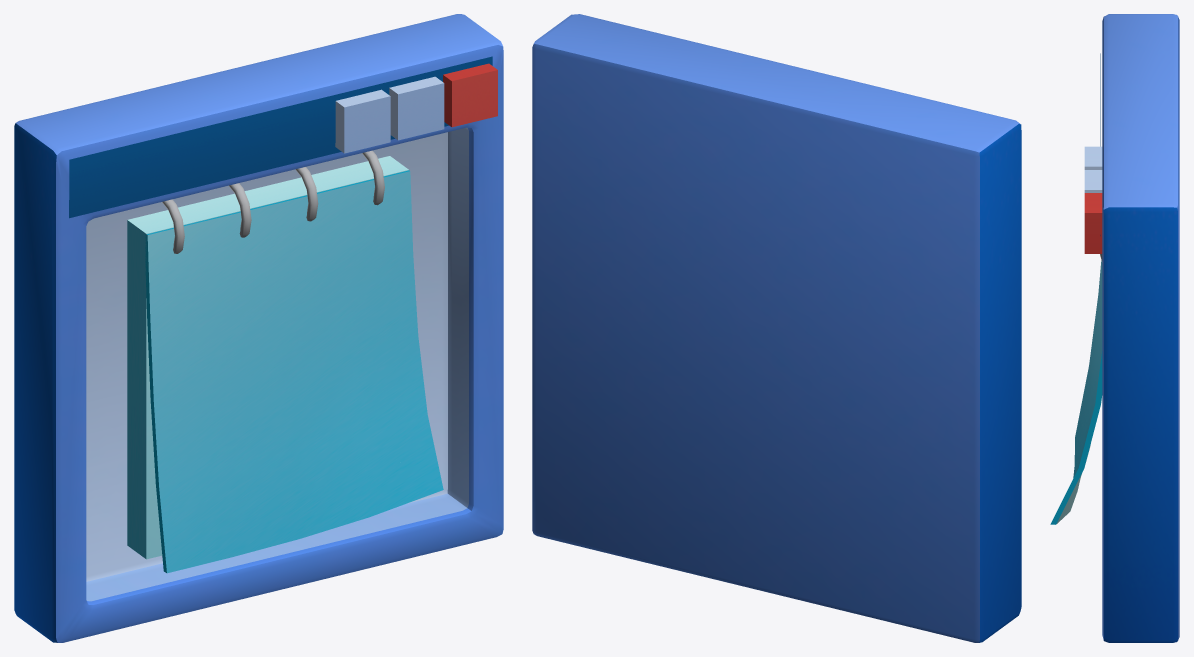
File: Notepad.fbx
The picture shows the model from 3 angles, left to right: view 1: azimuth 30°, elevation 25°; view 2: azimuth 150°, elevation 25°; view 3: azimuth 270°, elevation 25°; orthographic projection. The views are drawn at different scales.
Parts seen in each view (by area): view 1: Notepad; view 2: Notepad; view 3: Notepad.
Boxes of the visible parts, x1,y1,x2,y2 form: Notepad: [14, 14, 503, 642]; Notepad: [532, 14, 1021, 642]; Notepad: [1050, 14, 1179, 642].
Bounding box in the file's own units: 37.28 × 39.09 × 10.45.
